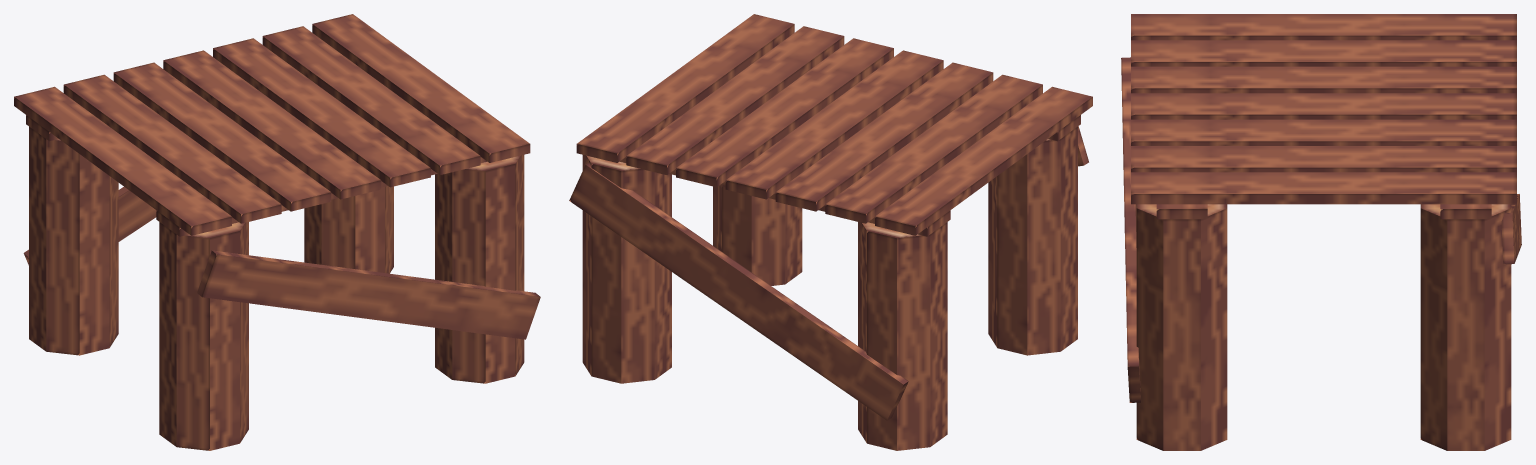
File: deck.fbx
The picture shows the model from 3 angles, left to right: view 1: azimuth 30°, elevation 25°; view 2: azimuth 150°, elevation 25°; view 3: azimuth 270°, elevation 25°; orthographic projection. The views are drawn at different scales.
Parts seen in each view (by area): view 1: troco4, troco5, cube_9, troco4_1, cube_1, cube, cube_6, cube_4, cube_5, cube_8, cube_7, troco3 (+1 smaller); view 2: troco5, cube_10, troco4, troco3, cube_1, cube_6, cube, cube_5, cube_8, cube_4, cube_7, troco4_1; view 3: troco4_1, troco3, cube, cube_5, cube_1, cube_4, cube_6, cube_7, cube_8, cube_9, cube_10, cube_2 (+1 smaller).
Part boxes in pixels (box(x1,y1,x2,y2)): troco4: box(29, 126, 118, 355); troco5: box(159, 222, 248, 450); cube_9: box(197, 250, 540, 339); troco4_1: box(435, 155, 524, 383); cube_1: box(14, 86, 231, 235); cube: box(312, 14, 530, 162); cube_6: box(163, 50, 381, 199); cube_4: box(63, 74, 281, 223); cube_5: box(113, 62, 331, 211); cube_8: box(262, 26, 480, 174); cube_7: box(213, 38, 430, 187); troco3: box(304, 186, 393, 273); troco5: box(988, 126, 1077, 355); cube_10: box(569, 162, 908, 420); troco4: box(858, 222, 947, 450); troco3: box(582, 155, 671, 383); cube_1: box(875, 86, 1092, 235); cube_6: box(725, 50, 943, 199); cube: box(576, 14, 794, 162); cube_5: box(775, 62, 993, 211); cube_8: box(626, 26, 844, 174); cube_4: box(825, 74, 1042, 223); cube_7: box(676, 38, 893, 187); troco4_1: box(713, 186, 802, 285); troco4_1: box(1136, 204, 1227, 450); troco3: box(1420, 204, 1511, 450); cube: box(1131, 172, 1516, 204); cube_5: box(1131, 66, 1516, 93); cube_1: box(1131, 14, 1516, 40); cube_4: box(1131, 40, 1516, 66); cube_6: box(1131, 93, 1516, 119); cube_7: box(1131, 119, 1516, 145); cube_8: box(1131, 146, 1516, 172); cube_9: box(1121, 57, 1140, 402); cube_10: box(1501, 194, 1521, 264); cube_2: box(1440, 204, 1491, 219).
Size of the model in its own units: 481 by 306 by 441.
Materials: 1 (1 with a texture image).
